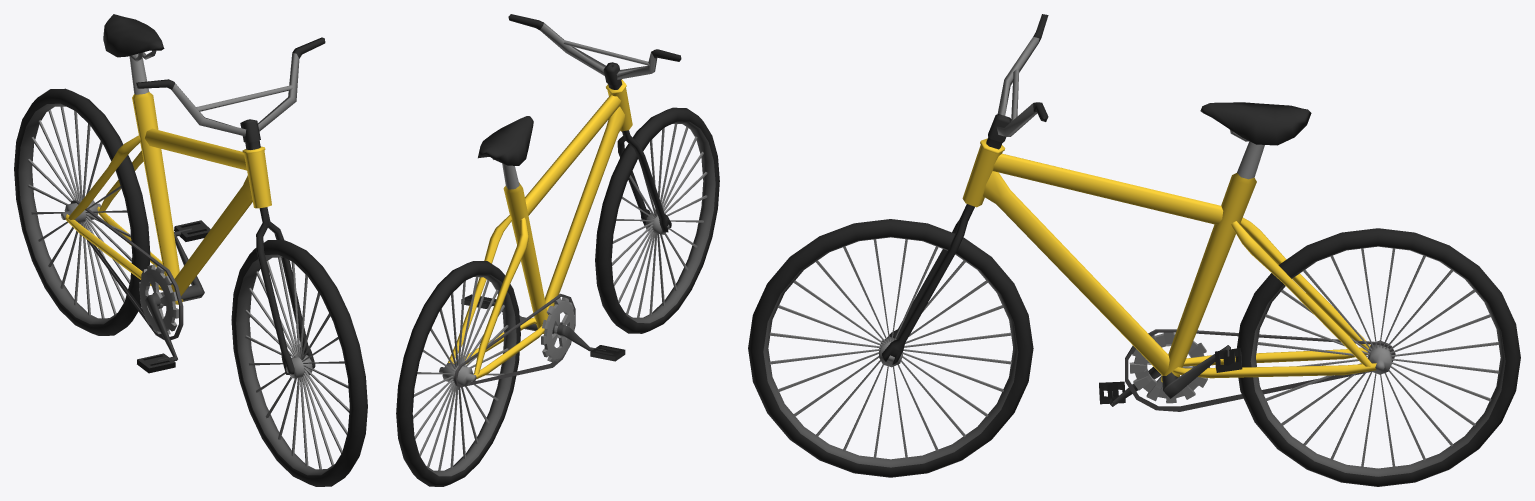
The model's file is PP_Bicycle.fbx.
The picture shows the model from 3 angles, left to right: view 1: azimuth 30°, elevation 25°; view 2: azimuth 150°, elevation 25°; view 3: azimuth 270°, elevation 25°; orthographic projection. The views are drawn at different scales.
Visible parts, largest first — view 1: body1, wheel11, wheel21, pedal1, pedal3, pedal2; view 2: body1, wheel11, wheel21, pedal1, pedal3; view 3: body1, wheel11, wheel21, pedal1.
Boxes of the visible parts, left/top/right/bottom form: body1: left=65, top=14, right=325, bottom=374; wheel11: left=231, top=239, right=367, bottom=486; wheel21: left=14, top=88, right=150, bottom=335; pedal1: left=139, top=228, right=204, bottom=361; pedal3: left=137, top=353, right=175, bottom=373; pedal2: left=174, top=220, right=210, bottom=241; body1: left=448, top=14, right=681, bottom=387; wheel11: left=595, top=107, right=719, bottom=333; wheel21: left=396, top=261, right=520, bottom=486; pedal1: left=480, top=297, right=605, bottom=362; pedal3: left=590, top=345, right=625, bottom=361; body1: left=882, top=14, right=1395, bottom=411; wheel11: left=748, top=219, right=1033, bottom=477; wheel21: left=1235, top=228, right=1520, bottom=486; pedal1: left=1109, top=332, right=1230, bottom=406.
Bounding box in the file's own units: 62.36 × 121 × 200.
1 material, 1 textured.
